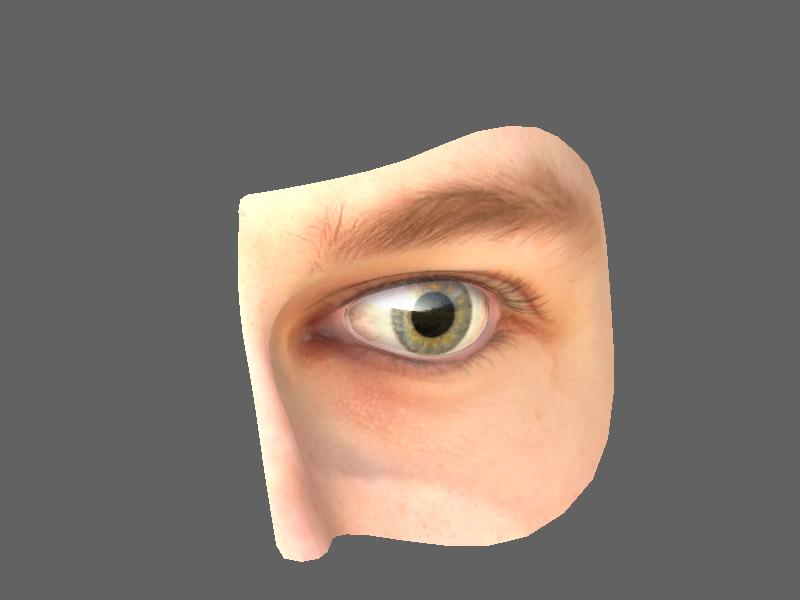iris: (382, 280, 477, 361)
